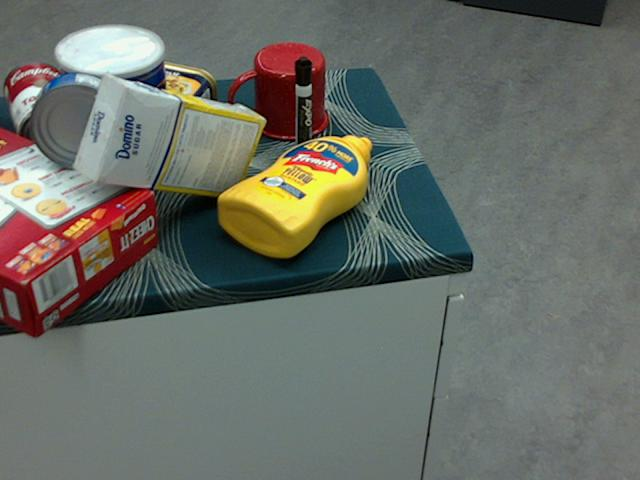cracker_box: (0, 126, 158, 334)
large_marker: (293, 56, 312, 162)
master_chef_can: (56, 26, 170, 195)
mug: (226, 43, 327, 141)
mustard_bottle: (217, 134, 371, 257)
potted_meat_can: (105, 58, 217, 146)
sugar_box: (74, 76, 265, 198)
tomato_soup_can: (6, 60, 81, 159)
tuna_fish_can: (29, 72, 126, 169)
